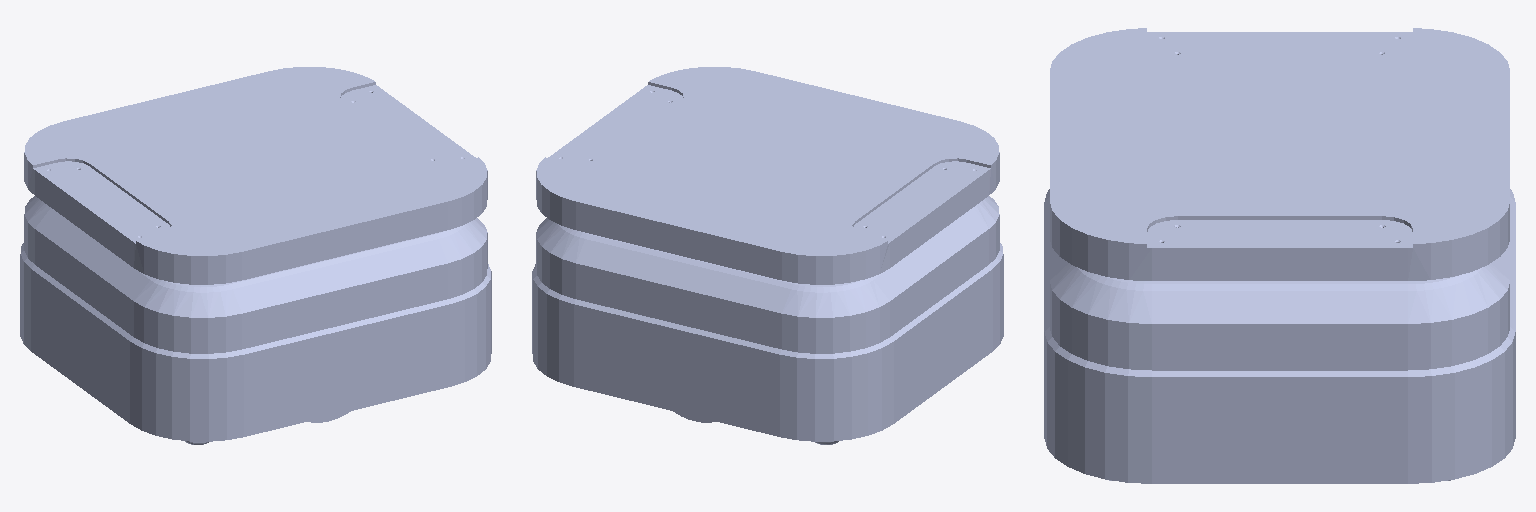
The robot description file, URDF, robot "autoxing":
<?xml version="1.0" encoding="utf-8"?>
<!-- This URDF was automatically created by SolidWorks to URDF Exporter! Originally created by [author] ([email redacted]) 
     Commit Version: 1.6.0-4-g7f85cfe  Build Version: 1.6.7995.38578
     For more information, please see http://wiki.ros.org/sw_urdf_exporter -->
<robot
  name="autoxing">
   <link
    name="Basefoot_link">
   
  </link>
    
  <link
    name="chassis">
    <inertial>
      <origin
        xyz="0.000149481705181087 -0.000120539934038988 0.152123091903942"
        rpy="0 0 0" />
      <mass
        value="116" />
     <inertia ixx="2.0609325089599997" ixy="0.0" ixz="0.0" iyy="4.34999826" iyz="0.0" izz="5.54093111696"/>
    </inertial>
    <visual>
      <origin
        xyz="0 0 0"
        rpy="0 0 0" />
      <geometry>
        <mesh
          filename="package://autoxing/meshes/base_link.STL" />
      </geometry>
      <material
        name="">
        <color
          rgba="0.792156862745098 0.819607843137255 0.933333333333333 1" />
      </material>
    </visual>
    <collision>
      <origin
        xyz="0 0 0"
        rpy="0 0 0" />
      <geometry>
        <mesh
          filename="package://autoxing/meshes/base_link.STL" />
      </geometry>
    </collision>
  </link>
 
  <joint
    name="base_link_it"
    type="fixed">
    <origin
      xyz="0 0 0"
      rpy="0 0 0" />
    <parent
      link="Basefoot_link" />
    <child
      link="chassis" />
    <axis
      xyz="0 0 0" />
  </joint>
 
  <link
    name="wheel_left">
    <inertial>
      <origin
        xyz="-1.38777878078145E-16 -7.97972798949331E-17 0.0399999999999999"
        rpy="0 0 0" />
      <mass
        value="1.28203160205244" />
      <inertia
        ixx="0.00231577757345468"
        ixy="0"
        ixz="0"
        iyy="0.00231577757345468"
        iyz="0"
        izz="0.00362433959821745" />
    </inertial>
    <visual>
      <origin
        xyz="0 0 0"
        rpy="0 0 0" />
      <geometry>
        <mesh
          filename="package://autoxing/meshes/wheel_left.STL " />
      </geometry>
      <material
        name="">
        <color
          rgba="0.792156862745098 0.819607843137255 0.933333333333333 1" />
      </material>
    </visual>
    <collision>
      <origin
        xyz="0 0 0"
        rpy="0 0 0" />
      <geometry>
	<cylinder radius="0.08" length="0.05"/>
      </geometry>
    </collision>
  </link>
  <joint
    name="wheel_left_joint"
    type="continuous">
    <origin
      xyz="0 0.120461283375568 0.001"
      rpy="-1.5707963267949 0 0" />
    <parent
      link="chassis" />
    <child
      link="wheel_left" />
    <axis
      xyz="0 0 1" />
  </joint>
  <link
    name="wheel_right">
    <inertial>
      <origin
        xyz="-1.38777878078145E-17 1.04083408558608E-17 0.0399999999999999"
        rpy="0 0 0" />
      <mass
        value="1.28203160205244" />
      <inertia
        ixx="0.00231577757345468"
        ixy="0"
        ixz="0"
        iyy="0.00231577757345468"
        iyz="0"
        izz="0.00362433959821745" />
    </inertial>
    <visual>
      <origin
        xyz="0 0 0"
        rpy="0 0 0" />
      <geometry>
        <mesh
          filename="package://autoxing/meshes/wheel_right.STL" />
      </geometry>
      <material
        name="">
        <color
          rgba="0.792156862745098 0.819607843137255 0.933333333333333 1" />
      </material>
    </visual>
    <collision>
      <origin
        xyz="0 0 0"
        rpy="0 0 0" />
      <geometry>
        
          <cylinder radius="0.08" length="0.05"/>
      </geometry>
    </collision>
  </link>
  <joint
    name="wheel_right_joint"
    type="continuous">
    <origin
      xyz="0 -0.120461283375569 0.001"
      rpy="1.5707963267949 0 0" />
    <parent
      link="chassis" />
    <child
      link="wheel_right" />
    <axis
      xyz="0 0 -1" />
  </joint>
  <link
    name="casterhub_front_left">
    <inertial>
      <origin
        xyz="0.00631384572851573 -0.00939402891827468 -7.51390670640402E-05"
        rpy="0 0 0" />
      <mass
        value="0.0507301916211751" />
      <inertia
        ixx="2.13076622334858E-05"
        ixy="-4.77213305526971E-12"
        ixz="-2.15459256741868E-07"
        iyy="2.12936580660824E-05"
        iyz="-3.18977689924232E-11"
        izz="9.21167172411273E-06" />
    </inertial>
    <visual>
      <origin
        xyz="0 0 0"
        rpy="0 0 0" />
      <geometry>
        <mesh
          filename="package://autoxing/meshes/casterhub_front_left.STL" />
      </geometry>
      <material
        name="">
        <color
          rgba="0.792156862745098 0.819607843137255 0.933333333333333 1" />
      </material>
    </visual>
    <collision>
      <origin
        xyz="0 0 0"
        rpy="0 0 0" />
      <geometry>
        <mesh
          filename="package://autoxing/meshes/casterhub_front_left.STL" />
      </geometry>
    </collision>
  </link>
  <joint
    name="casterhub_front_left_joint"
    type="continuous">
    <origin
      xyz="0.191588642505787 0.15140857130743 0.00300000000000051"
      rpy="0 0 0" />
    <parent
      link="chassis" />
    <child
      link="casterhub_front_left" />
    <axis
      xyz="0 0 1" />
       <dynamics damping="0.01" friction="0.0" />
  </joint>
  <link
    name="wheel_lf">
    <inertial>
      <origin
        xyz="2.77555756156289E-17 3.46944695195361E-17 0.0275000000000001"
        rpy="0 0 0" />
      <mass
        value="1.17460228082973" />
      <inertia
        ixx="0.000104635302988195"
        ixy="0"
        ixz="0"
        iyy="0.000104635302988195"
        iyz="0"
        izz="9.93225317269919E-05" />
    </inertial>
    <visual>
      <origin
        xyz="0 0 0"
        rpy="0 0 0" />
      <geometry>
        <mesh
          filename="package://autoxing/meshes/wheel_lf.STL" />
      </geometry>
      <material
        name="">
        <color
          rgba="0.792156862745098 0.819607843137255 0.933333333333333 1" />
      </material>
    </visual>
    <collision>
      <origin
        xyz="0 0 0"
        rpy="0 0 0" />
      <geometry>
        <cylinder radius="0.0375" length="0.055" />
      </geometry>
    </collision>
  </link>
  <joint
    name="wheel_lf_joint"
    type="continuous">
    <origin
      xyz="-0.0185912035639785 -0.036894016223973 -0.0450000000000003"
      rpy="-1.5707963267949 0 0" />
    <parent
      link="casterhub_front_left" />
    <child
      link="wheel_lf" />
    <axis
      xyz="0 0 -1" />
  </joint>
  <link
    name="casterhub_front_right">
    <inertial>
      <origin
        xyz="0.00631384572851623 0.00939400352967251 -7.51390670643212E-05"
        rpy="0 0 0" />
      <mass
        value="0.0507301916211753" />
      <inertia
        ixx="2.13076622334862E-05"
        ixy="0"
        ixz="0"
        iyy="2.12936580660827E-05"
        iyz="0"
        izz="9.21167172411275E-06" />
    </inertial>
    <visual>
      <origin
        xyz="0 0 0"
        rpy="0 0 0" />
      <geometry>
        <mesh
          filename="package://autoxing/meshes/casterhub_front_right.STL" />
      </geometry>
      <material
        name="">
        <color
          rgba="0.792156862745098 0.819607843137255 0.933333333333333 1" />
      </material>
    </visual>
    <collision>
      <origin
        xyz="0 0 0"
        rpy="0 0 0" />
      <geometry>
        <mesh
          filename="package://autoxing/meshes/casterhub_front_right.STL" />
      </geometry>
    </collision>
  </link>
  <joint
    name="casterhub_front_right_joint"
    type="continuous">
    <origin
      xyz="0.191588642505786 -0.151408571307431 0.00300000000000041"
      rpy="0 0 0" />
    <parent
      link="chassis" />
    <child
      link="casterhub_front_right" />
    <axis
      xyz="0 0 1" />
       <dynamics damping="0.01" friction="0.0" />
  </joint>
  <link
    name="wheel_rf">
    <inertial>
      <origin
        xyz="-5.55111512312578E-17 -2.77555756156289E-17 0.0275"
        rpy="0 0 0" />
      <mass
        value="1.17460228082973" />
      <inertia
        ixx="0.000104635302988195"
        ixy="0"
        ixz="0"
        iyy="0.000104635302988195"
        iyz="0"
        izz="9.9322531726992E-05" />
    </inertial>
    <visual>
      <origin
        xyz="0 0 0"
        rpy="0 0 0" />
      <geometry>
        <mesh
          filename="package://autoxing/meshes/wheel_rf.STL" />
      </geometry>
      <material
        name="">
        <color
          rgba="0.792156862745098 0.819607843137255 0.933333333333333 1" />
      </material>
    </visual>
    <collision>
      <origin
        xyz="0 0 0"
        rpy="0 0 0" />
      <geometry>
        <cylinder radius="0.0375" length="0.055" />
      </geometry>
    </collision>
  </link>
  <joint
    name="wheel_rf_joint"
    type="continuous">
    <origin
      xyz="-0.0185912035639783 0.0368940162239737 -0.0450000000000001"
      rpy="1.5707963267949 0 0" />
    <parent
      link="casterhub_front_right" />
    <child
      link="wheel_rf" />
    <axis
      xyz="0 0 1" />
  </joint>
  <link
    name="casterhub_back_left">
    <inertial>
      <origin
        xyz="-0.00631384572595789 -0.00939400352571207 -7.51390691109341E-05"
        rpy="0 0 0" />
      <mass
        value="0.0507301916238285" />
      <inertia
        ixx="2.13076622385357E-05"
        ixy="0"
        ixz="0"
        iyy="2.12936580714444E-05"
        iyz="0"
        izz="9.21167172497116E-06" />
    </inertial>
    <visual>
      <origin
        xyz="0 0 0"
        rpy="0 0 0" />
      <geometry>
        <mesh
          filename="package://autoxing/meshes/casterhub_back_left.STL" />
      </geometry>
      <material
        name="">
        <color
          rgba="0.792156862745098 0.819607843137255 0.933333333333333 1" />
      </material>
    </visual>
    <collision>
      <origin
        xyz="0 0 0"
        rpy="0 0 0" />
      <geometry>
        <mesh
          filename="package://autoxing/meshes/casterhub_back_left.STL" />
      </geometry>
    </collision>
  </link>
  <joint
    name="casterhub_back_left_joint"
    type="continuous">
    <origin
      xyz="-0.191588642505784 0.15140857130743 0.00300000000000039"
      rpy="0 0 0" />
    <parent
      link="chassis" />
    <child
      link="casterhub_back_left" />
    <axis
      xyz="0 0 1" />
       <dynamics damping="0.01" friction="0.0" />
  </joint>
  <link
    name="wheel_lb">
    <inertial>
      <origin
        xyz="5.55111512312578E-17 2.42861286636753E-17 0.0275"
        rpy="0 0 0" />
      <mass
        value="1.17460228082973" />
      <inertia
        ixx="0.000104635302988195"
        ixy="0"
        ixz="0"
        iyy="0.000104635302988195"
        iyz="0"
        izz="9.9322531726992E-05" />
    </inertial>
    <visual>
      <origin
        xyz="0 0 0"
        rpy="0 0 0" />
      <geometry>
        <mesh
          filename="package://autoxing/meshes/wheel_lb.STL" />
      </geometry>
      <material
        name="">
        <color
          rgba="0.792156862745098 0.819607843137255 0.933333333333333 1" />
      </material>
    </visual>
    <collision>
      <origin
        xyz="0 0 0"
        rpy="0 0 0" />
      <geometry>
       <cylinder radius="0.0375" length="0.055" />
      </geometry>
    </collision>
  </link>
  <joint
    name="wheel_lb_joint"
    type="continuous">
    <origin
      xyz="0.0185912035639781 -0.0368940162239735 -0.0450000000000004"
      rpy="-1.5707963267949 0 0" />
    <parent
      link="casterhub_back_left" />
    <child
      link="wheel_lb" />
    <axis
      xyz="0 0 -1" />
  </joint>
  <link
    name="casterhub_back_right">
    <inertial>
      <origin
        xyz="-0.00631384572595783 0.00939402892223568 -7.51390691110208E-05"
        rpy="0 0 0" />
      <mass
        value="0.0507301916238286" />
      <inertia
        ixx="2.1307662238536E-05"
        ixy="-4.77268550032231E-12"
        ixz="2.15459261528391E-07"
        iyy="2.12936580714447E-05"
        iyz="3.19056366466023E-11"
        izz="9.21167172497116E-06" />
    </inertial>
    <visual>
      <origin
        xyz="0 0 0"
        rpy="0 0 0" />
      <geometry>
        <mesh
          filename="package://autoxing/meshes/casterhub_back_right.STL" />
      </geometry>
      <material
        name="">
        <color
          rgba="0.792156862745098 0.819607843137255 0.933333333333333 1" />
      </material>
    </visual>
    <collision>
      <origin
        xyz="0 0 0"
        rpy="0 0 0" />
      <geometry>
        <mesh
          filename="package://autoxing/meshes/casterhub_back_right.STL" />
      </geometry>
    </collision>
  </link>
  <joint
    name="casterhub_back_right_joint"
    type="continuous">
    <origin
      xyz="-0.191588642505784 -0.151408571307431 0.00300000000000018"
      rpy="0 0 0" />
    <parent
      link="chassis" />
    <child
      link="casterhub_back_right" />
    <axis
      xyz="0 0 1" />
       <dynamics damping="0.01" friction="0.0" />
  </joint>
  <link
    name="wheel_rb">
    <inertial>
      <origin
        xyz="-3.33066907387547E-16 2.84494650060196E-16 0.0275"
        rpy="0 0 0" />
      <mass
        value="1.17460228082973" />
      <inertia
        ixx="0.000104635302988195"
        ixy="0"
        ixz="0"
        iyy="0.000104635302988195"
        iyz="0"
        izz="9.93225317269922E-05" />
    </inertial>
    <visual>
      <origin
        xyz="0 0 0"
        rpy="0 0 0" />
      <geometry>
        <mesh
          filename="package://autoxing/meshes/wheel_rb.STL" />
      </geometry>
      <material
        name="">
        <color
          rgba="0.792156862745098 0.819607843137255 0.933333333333333 1" />
      </material>
    </visual>
    <collision>
      <origin
        xyz="0 0 0"
        rpy="0 0 0" />
      <geometry>
       <cylinder radius="0.0375" length="0.055" />
      </geometry>
    </collision>
  </link>
  <joint
    name="wheel_rb_joint"
    type="continuous">
    <origin
      xyz="0.0185912035639779 0.0368940162239737 -0.0450000000000001"
      rpy="1.5707963267949 0 0" />
    <parent
      link="casterhub_back_right" />
    <child
      link="wheel_rb" />
    <axis
      xyz="0 0 1" />
  </joint>
  <link
    name="lidar">
    <inertial>
      <origin
        xyz="-2.77555756156289E-17 0 -0.005"
        rpy="0 0 0" />
      <mass
        value="0.000785398163397448" />
      <inertia
        ixx="1.14537232162128E-08"
        ixy="0"
        ixz="0"
        iyy="1.14537232162128E-08"
        iyz="0"
        izz="9.8174770424681E-09" />
    </inertial>
    <visual>
      <origin
        xyz="0 0 0"
        rpy="0 0 0" />
      <geometry>
        <mesh
          filename="package://autoxing/meshes/lidar.STL" />
      </geometry>
      <material
        name="">
        <color
          rgba="0.792156862745098 0.819607843137255 0.933333333333333 1" />
      </material>
    </visual>
    <collision>
      <origin
        xyz="0 0 0"
        rpy="0 0 0" />
      <geometry>
        <mesh
          filename="package://autoxing/meshes/lidar.STL" />
      </geometry>
    </collision>
  </link>
  <joint
    name="lidar_joint"
    type="fixed">
    <origin
      xyz="0.00671416680612409 0.00186793926091405 0.158"
      rpy="0 0 0" />
    <parent
      link="chassis" />
    <child
      link="lidar" />
    <axis
      xyz="0 0 0" />
  </joint>
    <!--imu_sensor-->
     <link
    name="imu_link">
    <inertial>
      <origin
        xyz="-2.77555756156289E-17 0 -0.005"
        rpy="0 0 0" />
      <mass
        value="0.000785398163397448" />
      <inertia
        ixx="1.14537232162128E-08"
        ixy="0"
        ixz="-3.39253103278279E-24"
        iyy="1.14537232162128E-08"
        iyz="-1.03950157856018E-23"
        izz="9.8174770424681E-09" />
    </inertial>
    <visual>
      <origin
        xyz="0 0 0"
        rpy="0 0 0" />
      <geometry>
        <mesh
          filename="package://autoxing/meshes/lidar.STL" />
      </geometry>
      <material
        name="">
        <color
          rgba="0.792156862745098 0.819607843137255 0.933333333333333 1" />
      </material>
    </visual>
    <collision>
      <origin
        xyz="0 0 0"
        rpy="0 0 0" />
      <geometry>
        <mesh
          filename="package://autoxing/meshes/lidar.STL" />
      </geometry>
    </collision>
  </link>
  <joint
    name="imu_joint"
    type="fixed">
    <origin
      xyz="0.00671416680612409 0.00186793926091405 0.1"
      rpy="0 0 0" />
    <parent
      link="chassis" />
    <child
      link="imu_link" />
    <axis
      xyz="0 0 0" />
  </joint>
   <gazebo reference="chassis">
  	<material>Gazebo/Turquoise </material>
  </gazebo>
  <gazebo reference="wheel_left">
  	<mu1>1.0</mu1>
  	<mu2>1.0</mu2>
  	<kp>10000000</kp>
  	<kd>1.0</kd>
  	<material>Gazebo/FlatBlack</material>
  </gazebo>
   <gazebo reference="wheel_right">
  	<mu1>1.0</mu1>
  	<mu2>1.0</mu2>
  	<kp>10000000</kp>
  	<kd>1.0</kd>   
  	<material>Gazebo/FlatBlack</material>
  </gazebo>
   <gazebo reference="lidar">
  	<material>Gazebo/Green</material>
  </gazebo>
   <gazebo reference="wheel_lf">
  	<mu1>1.0</mu1>
  	<mu2>1.0</mu2>
  	<kp>10000000</kp>
  	<kd>1.0</kd>   
  	<material>Gazebo/FlatBlack</material>
  </gazebo>
   <gazebo reference="wheel_rf">
  	<mu1>1.0</mu1>
  	<mu2>1.0</mu2>
  	<kp>10000000</kp>
  	<kd>1.0</kd>   
  	<material>Gazebo/FlatBlack</material>
  </gazebo>
   <gazebo reference="wheel_lb">
  	<mu1>1.0</mu1>
  	<mu2>1.0</mu2>
  	<kp>10000000</kp>
  	<kd>1.0</kd>   
  	<material>Gazebo/FlatBlack</material>
  </gazebo>
   <gazebo reference="wheel_rb">
    <mu1>1.0</mu1>
  	<mu2>1.0</mu2>
  	<kp>10000000</kp>
  	<kd>1.0</kd> 
  	<material>Gazebo/FlatBlack</material>
  </gazebo>
   <!-- adding diff drive -->
   <gazebo>
   <plugin name="differential_drive_controller" filename="libgazebo_ros_diff_drive.so">

    <!-- Plugin update rate in Hz -->
    <updateRate>50</updateRate>

    <!-- Name of left joint, defaults to `left_joint` -->
    <leftJoint>wheel_left_joint</leftJoint>

    <!-- Name of right joint, defaults to `right_joint` -->
    <rightJoint>wheel_right_joint</rightJoint>

    <!-- The distance from the center of one wheel to the other, in meters, defaults to 0.34 m -->
    <wheelSeparation>0.32</wheelSeparation>

    <!-- Diameter of the wheels, in meters, defaults to 0.15 m -->
    <wheelDiameter>0.16</wheelDiameter>

    <!-- Wheel acceleration, in rad/s^2, defaults to 0.0 rad/s^2 -->
    <wheelAcceleration>1.2</wheelAcceleration>

    <!-- Maximum torque which the wheels can produce, in Nm, defaults to 5 Nm -->
    <wheelTorque>5</wheelTorque>

    <!-- Topic to receive geometry_msgs/Twist message commands, defaults to `cmd_vel` -->
    <commandTopic>cmd_vel</commandTopic>

    <!-- Topic to publish nav_msgs/Odometry messages, defaults to `odom` -->
    <odometryTopic>odom</odometryTopic>

    <!-- Odometry frame, defaults to `odom` -->
    <odometryFrame>odom</odometryFrame>

    <!-- Robot frame to calculate odometry from, defaults to `base_footprint` -->
    <robotBaseFrame>chassis</robotBaseFrame>

    <!-- Odometry source, 0 for ENCODER, 1 for WORLD, defaults to WORLD -->
    <odometrySource>1</odometrySource>

    <!-- Set to true to publish transforms for the wheel links, defaults to false -->
    <publishWheelTF>true</publishWheelTF>

    <!-- Set to true to publish transforms for the odometry, defaults to true -->
    <publishOdom>true</publishOdom>

    <!-- Set to true to publish sensor_msgs/JointState on /joint_states for the wheel joints, defaults to false -->
    <publishWheelJointState>true</publishWheelJointState>

    <!-- Set to true to swap right and left wheels, defaults to true -->
    <legacyMode>false</legacyMode>
   </plugin>
 </gazebo>
 
 <!-- hokuyo -->
  <gazebo reference="lidar">
    <sensor type="ray" name="sensor">
      <pose>0 0 0 0 0 0</pose>
      <visualize>false</visualize>
      <update_rate>40</update_rate>
      <ray>
        <scan>
          <horizontal>
            <samples>720</samples>
            <resolution>1</resolution>
            <min_angle>-1.570796</min_angle>
            <max_angle>4.712388</max_angle> <!-- 1.570796-->
          </horizontal>
        </scan>
        <range>
          <min>0.10</min>
          <max>30.0</max>
          <resolution>0.01</resolution>
        </range>
        <noise>
          <type>gaussian</type>
          <!-- Noise parameters based on published spec for Hokuyo laser
               achieving "+-30mm" accuracy at range < 10m.  A mean of 0.0m and
               stddev of 0.01m will put 99.7% of samples within 0.03m of the true
               reading. -->
          <mean>0.0</mean>
          <stddev>0.01</stddev>
        </noise>
      </ray>
      
      <plugin name="hokuyo_node" filename="libgazebo_ros_laser.so">
        <topicName>/laser/scan</topicName>
        <frameName>lidar</frameName>
      </plugin> 
    </sensor>
  </gazebo>
   <!-- imu sensor -->
     <gazebo>
    <plugin name="imu_plugin" filename="libgazebo_ros_imu.so">
      <alwaysOn>true</alwaysOn>
      <bodyName>chassis</bodyName>
      <topicName>imu</topicName>
      <serviceName>imu_service</serviceName>
      <gaussianNoise>0.0</gaussianNoise>
      <updateRate>1.0</updateRate>
    </plugin>
  </gazebo>
   <gazebo reference="imu_link">
    <gravity>true</gravity>
    <sensor name="imu_sensor" type="imu">
      <always_on>true</always_on>
      <update_rate>100</update_rate>
      <visualize>true</visualize>
      <topic>__default_topic__</topic>
      <plugin filename="libgazebo_ros_imu_sensor.so" name="imu_plugin">
        <topicName>imu</topicName>
        <bodyName>imu_link</bodyName>
        <updateRateHZ>10.0</updateRateHZ>
        <gaussianNoise>0.0</gaussianNoise>
        <xyzOffset>0 0 0</xyzOffset>
        <rpyOffset>0 0 0</rpyOffset>
        <frameName>imu_link</frameName>
        <initialOrientationAsReference>false</initialOrientationAsReference>
      </plugin>
      <pose>0 0 0 0 0 0</pose>
    </sensor>
  </gazebo>
</robot>

--- What the picture shows (computed from the rendered views, not written in the file) ---
The picture shows the robot from 3 angles, left to right: view 1: azimuth 30°, elevation 25°; view 2: azimuth 150°, elevation 25°; view 3: azimuth 270°, elevation 25°; orthographic projection.
Model autoxing with 14 links and 13 joints (10 continuous, 3 fixed), rooted at Basefoot_link, posed all joints at 0.
Links seen in each view (by area): view 1: chassis; view 2: chassis; view 3: chassis.
Boxes of the visible links, left/top/right/bottom form: chassis: left=20, top=67, right=491, bottom=441; chassis: left=532, top=67, right=1003, bottom=441; chassis: left=1044, top=28, right=1515, bottom=483.
Size in the robot's own frame: 0.51 by 0.46 by 0.2875 metres.
Meshes: 12 distinct files referenced, 13 mesh visuals loaded (12 binary STL).
